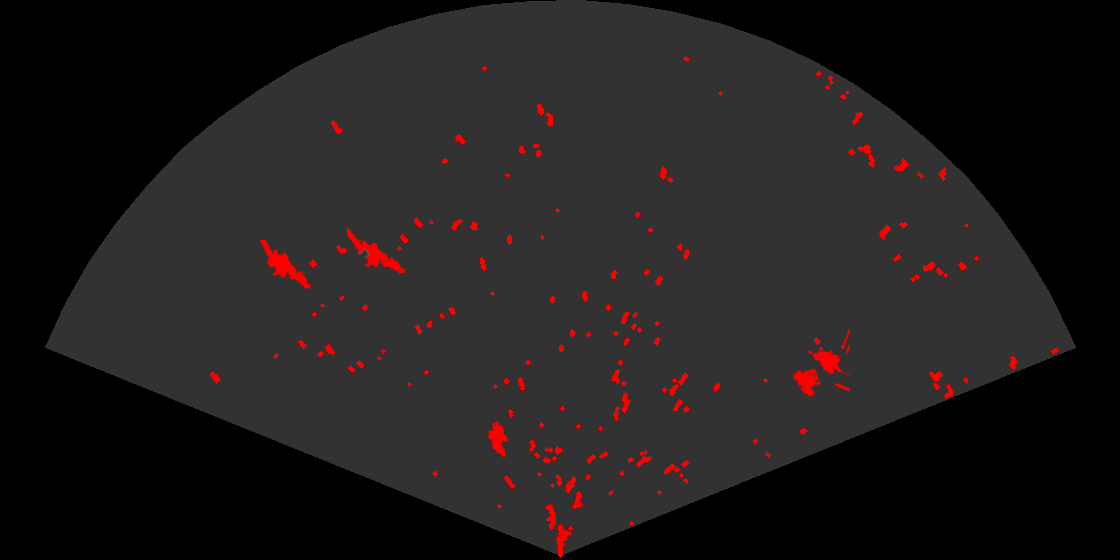AUV: (486, 419, 509, 459)
cage: (791, 329, 850, 399)
frogman: (347, 227, 407, 276), (258, 240, 313, 291)
